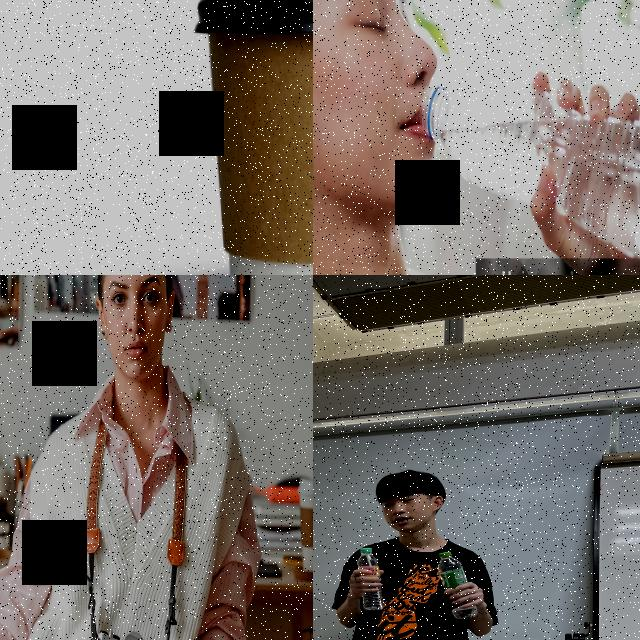bottle: (422, 75, 640, 275), (436, 548, 480, 620), (355, 546, 388, 610)
cup: (186, 0, 313, 275), (297, 475, 313, 575)
